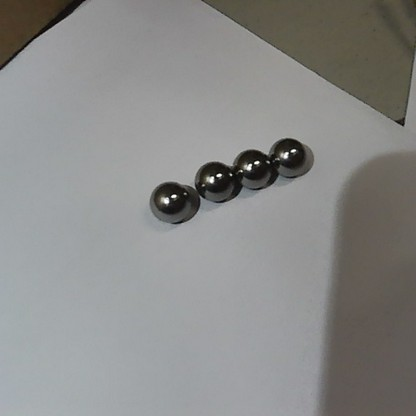ironball: (147, 179, 196, 231), (269, 133, 313, 179), (194, 160, 237, 204), (229, 147, 273, 188)
